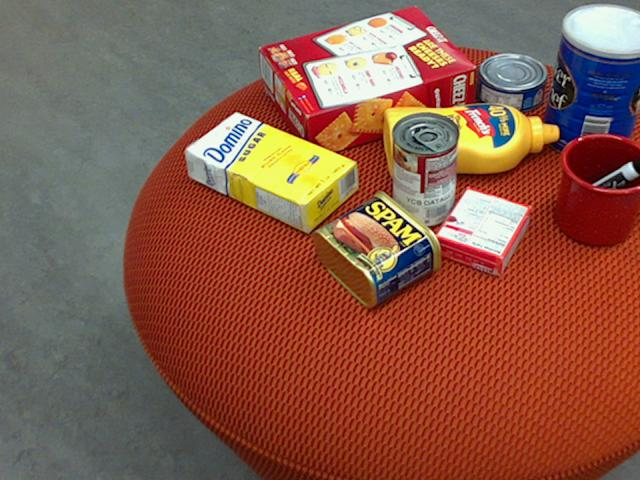cracker_box: (258, 5, 475, 158)
gelatin_box: (433, 187, 532, 277)
large_marker: (557, 154, 639, 216)
master_chef_can: (540, 4, 639, 160)
mug: (554, 132, 639, 245)
mustard_bottle: (383, 103, 558, 178)
potted_meat_can: (311, 189, 440, 307)
sugar_box: (183, 110, 357, 233)
tomato_soup_can: (390, 109, 458, 226)
tuna_fish_can: (473, 53, 546, 111)
